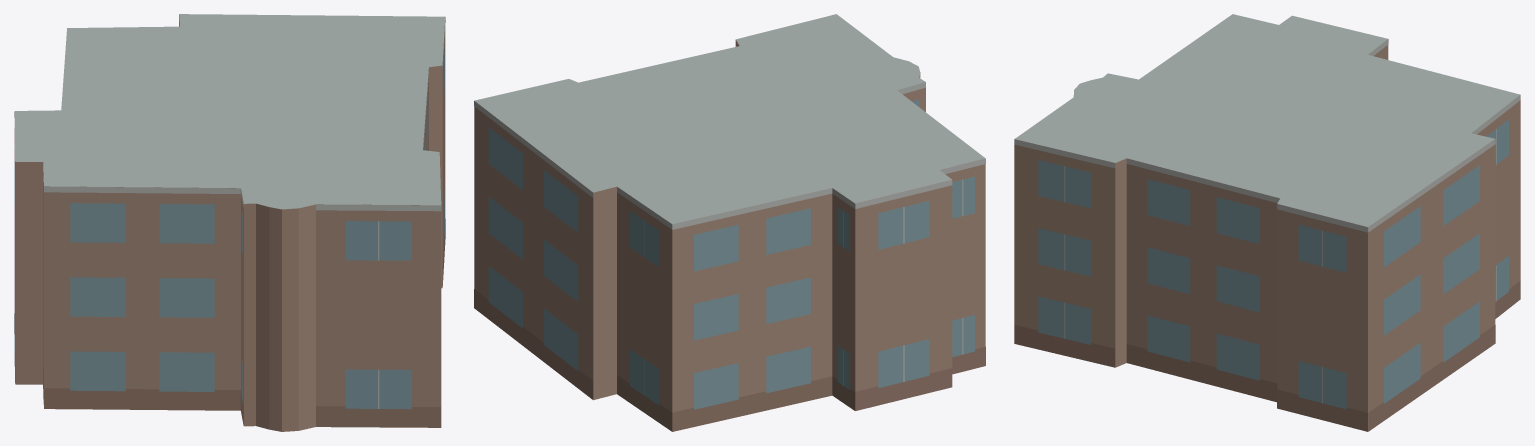
File: survey-upis-32596243.glb
3 renders of one model, left to right at view 1: azimuth 30°, elevation 25°; view 2: azimuth 150°, elevation 25°; view 3: azimuth 270°, elevation 25°, orthographic. The views are drawn at different scales.
Visible parts, largest first — view 1: survey-upis-32596243.tmp; view 2: survey-upis-32596243.tmp; view 3: survey-upis-32596243.tmp.
Boxes of the visible parts, x1,y1,x2,y2 form: survey-upis-32596243.tmp: [14, 14, 445, 431]; survey-upis-32596243.tmp: [474, 14, 985, 431]; survey-upis-32596243.tmp: [1014, 14, 1520, 431].
Bounding box in the file's own units: 20.45 × 9.15 × 20.51.
